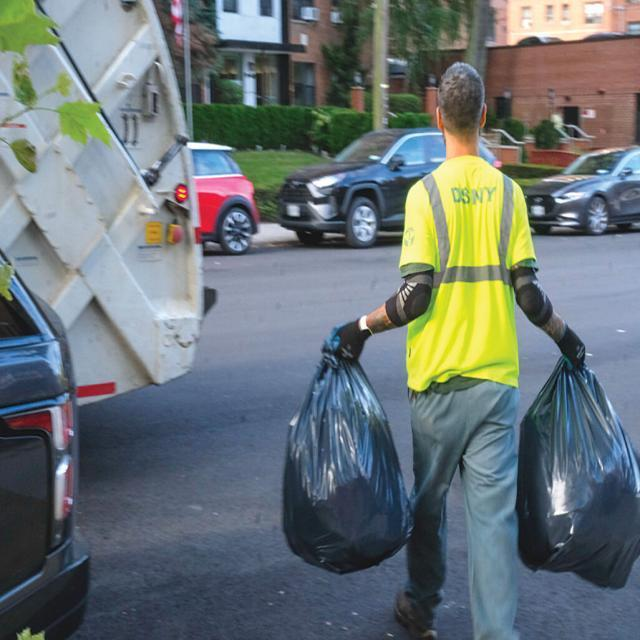Trashbag: (266, 358, 411, 580), (518, 356, 634, 576)
